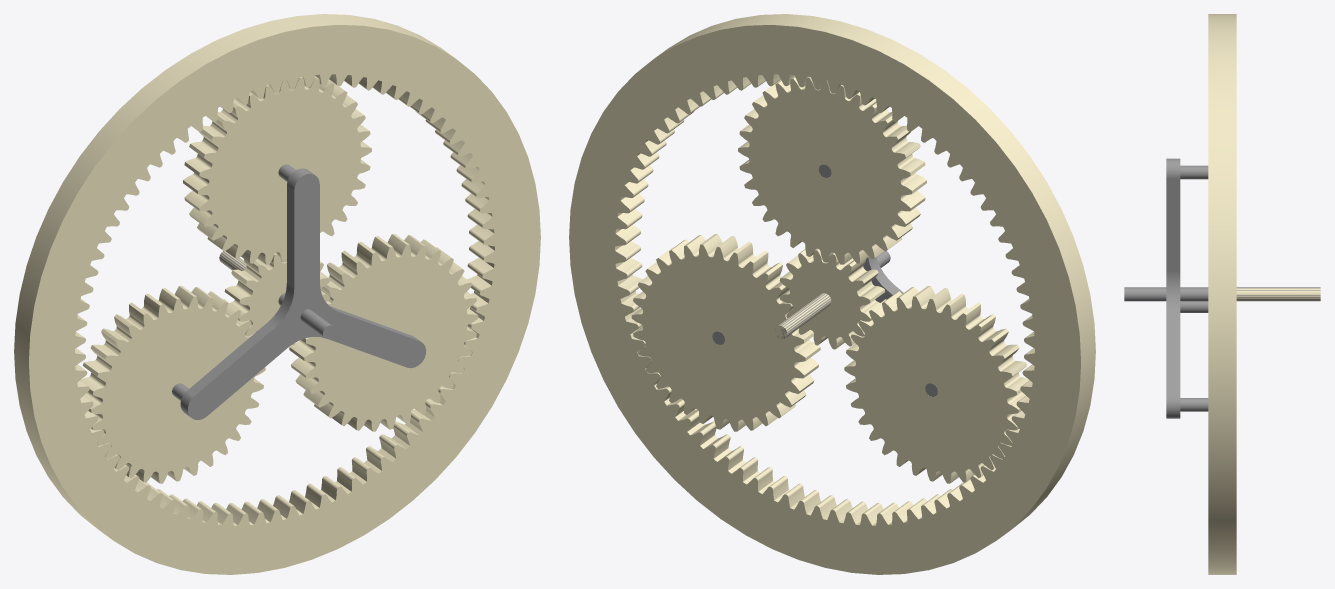
File: p-gear.glb
The picture shows the model from 3 angles, left to right: view 1: azimuth 30°, elevation 25°; view 2: azimuth 150°, elevation 25°; view 3: azimuth 270°, elevation 25°; orthographic projection. The views are drawn at different scales.
Visible parts, largest first — view 1: Solid1 (×7); view 2: Solid1 (×7); view 3: Solid1 (×4).
Part boxes in pixels (<box>): Solid1 (×7): <box>14,14,540,574</box>; Solid1 (×7): <box>569,14,1095,574</box>; Solid1 (×4): <box>1124,14,1320,574</box>.
Size of the model in its own units: 0.2 by 0.2 by 0.07.
